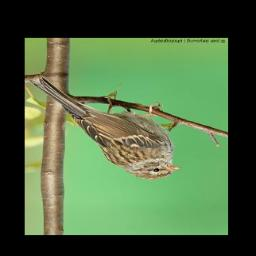Sparrow: (29, 75, 182, 181)
